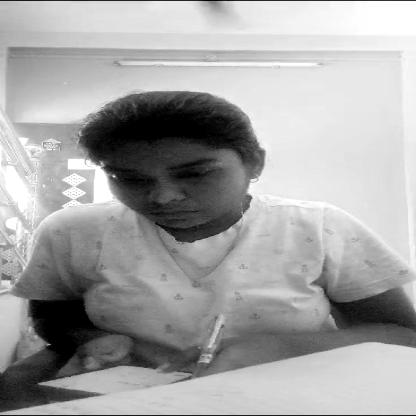Normal: (84, 99, 263, 231)
